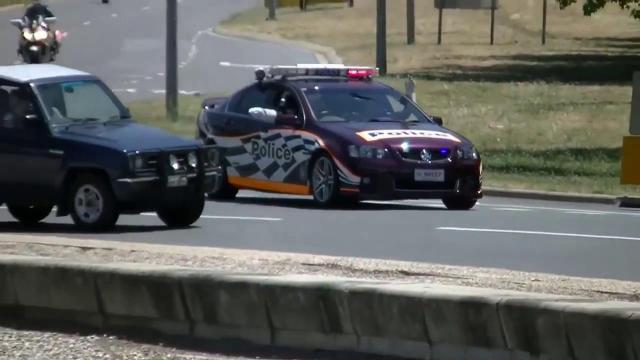police_car: (200, 62, 485, 216)
